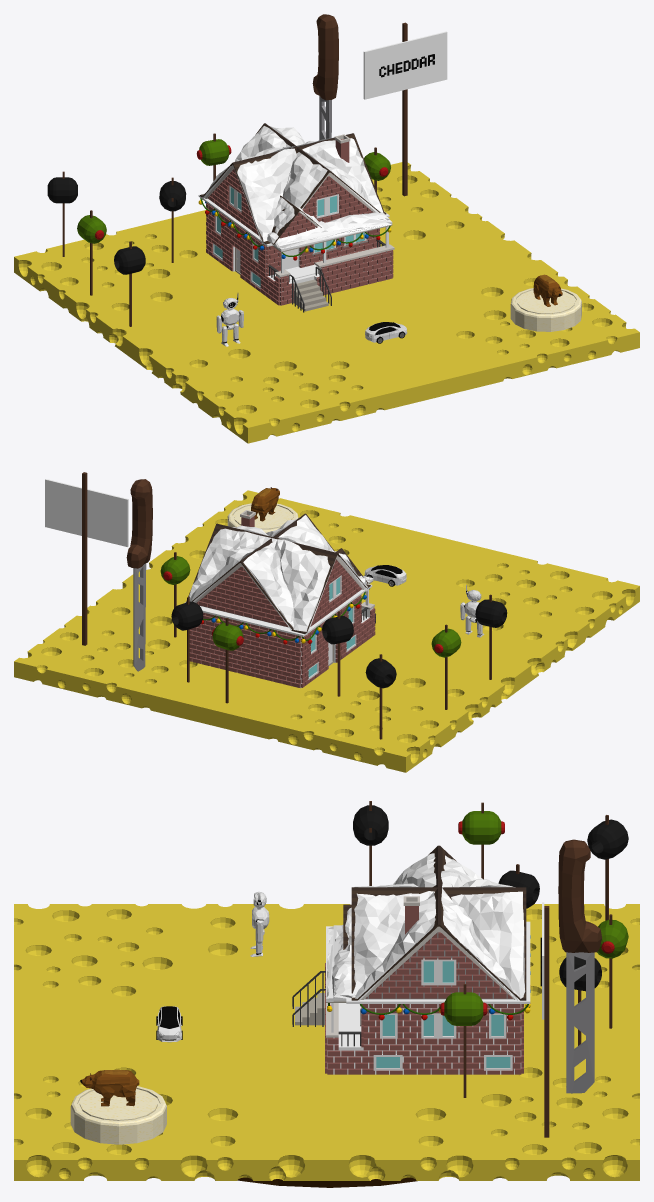
3 views of the same model, one above another, from view 1: azimuth 30°, elevation 25°; view 2: azimuth 150°, elevation 25°; view 3: azimuth 270°, elevation 25° (orthographic). The views are drawn at different scales.
Parts seen in each view (by area): view 1: Cube.022, Cube.1419, Cube.023, Cylinder.016, Cube.024, Sphere.017, Sphere.016, OBJRANDOM_PLATZEEBOT, Sphere.020, Sphere.018, Sphere.022, VEHICLES_TESLA (+2 smaller); view 2: Cube.022, Cube.1419, Cube.023, Cube.024, Cylinder.016, Sphere.020, Sphere.016, Sphere.022, Sphere.017, Sphere.021, Sphere.018, Sphere.019 (+3 smaller); view 3: Cube.022, Cube.1419, Cube.024, Cylinder.016, Cube.023, Sphere.019, Sphere.016, ANIMAL_OSO, Sphere.018, Sphere.017, Sphere.022, Cylinder (+4 smaller).
Boxes of the visible parts, box(x1,y1,x2,y2) form: Cube.022: box(14, 162, 639, 443); Cube.1419: box(198, 123, 394, 312); Cube.023: box(363, 22, 447, 196); Cylinder.016: box(510, 288, 581, 331); Cube.024: box(312, 14, 338, 140); Sphere.017: box(114, 241, 145, 326); Sphere.016: box(47, 171, 77, 256); OBJRANDOM_PLATZEEBOT: box(216, 293, 243, 346); Sphere.020: box(159, 177, 186, 262); Sphere.018: box(77, 210, 106, 295); Sphere.022: box(196, 133, 231, 180); VEHICLES_TESLA: box(365, 322, 407, 343); Cube.022: box(14, 490, 639, 772); Cube.1419: box(185, 510, 375, 688); Cube.023: box(45, 472, 128, 645); Cube.024: box(126, 479, 152, 671); Cylinder.016: box(227, 503, 298, 532); Sphere.020: box(322, 611, 353, 696); Sphere.016: box(365, 654, 396, 739); Sphere.022: box(212, 618, 243, 703); Sphere.017: box(475, 594, 507, 679); Sphere.021: box(171, 597, 203, 682); Sphere.018: box(431, 624, 461, 709); Sphere.019: box(160, 552, 190, 637); Cube.022: box(14, 904, 639, 1180); Cube.1419: box(292, 845, 530, 1074); Cube.024: box(558, 839, 601, 1093); Cylinder.016: box(70, 1086, 166, 1144); Cube.023: box(540, 902, 549, 1137); Sphere.019: box(440, 984, 487, 1097); Sphere.016: box(587, 815, 628, 920); ANIMAL_OSO: box(80, 1069, 139, 1106); Sphere.018: box(458, 802, 504, 879); Sphere.017: box(353, 801, 388, 885); Sphere.022: box(597, 914, 628, 1028); Cylinder: box(237, 1177, 417, 1187).
Size of the model in its own units: 3917 by 2073 by 4000.
Materials: 42 (3 with a texture image).
